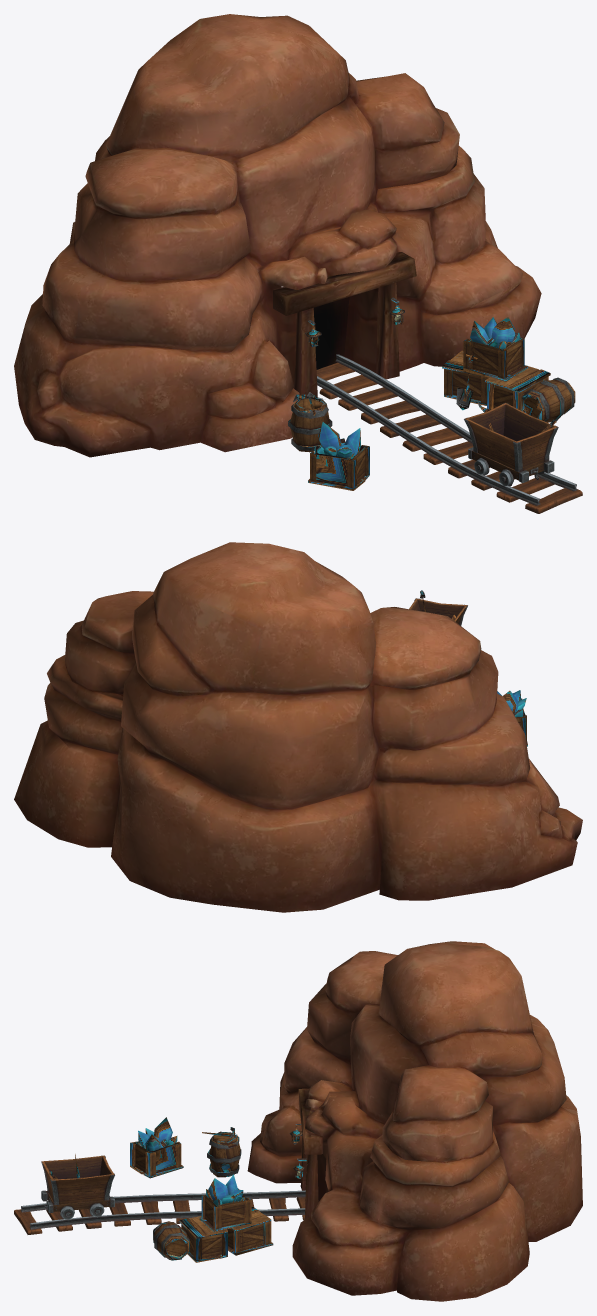
The picture shows the model from 3 angles, top to bottom: view 1: azimuth 30°, elevation 25°; view 2: azimuth 150°, elevation 25°; view 3: azimuth 270°, elevation 25°; orthographic projection. The views are drawn at different scales.
Parts seen in each view (by area): view 1: Cave-Low-POLY_M-Cave_0, Woods-Low-POLY_M-Vagon_0, Lamp_M-Props_0; view 2: Cave-Low-POLY_M-Cave_0, Woods-Low-POLY_M-Vagon_0, Lamp_M-Props_0; view 3: Cave-Low-POLY_M-Cave_0, Lamp_M-Props_0, Woods-Low-POLY_M-Vagon_0.
Part boxes in pixels (x1,y1,x2,y2): Cave-Low-POLY_M-Cave_0: (14,14,541,457); Woods-Low-POLY_M-Vagon_0: (316,354,582,513); Lamp_M-Props_0: (288,297,575,490); Cave-Low-POLY_M-Cave_0: (14,542,582,912); Woods-Low-POLY_M-Vagon_0: (409,598,467,625); Lamp_M-Props_0: (420,590,527,746); Cave-Low-POLY_M-Cave_0: (247,941,582,1301); Lamp_M-Props_0: (49,1117,306,1262); Woods-Low-POLY_M-Vagon_0: (14,1155,305,1234).
Bounding box in the file's own units: 11.35 × 6.21 × 13.
3 materials, 3 textured.
